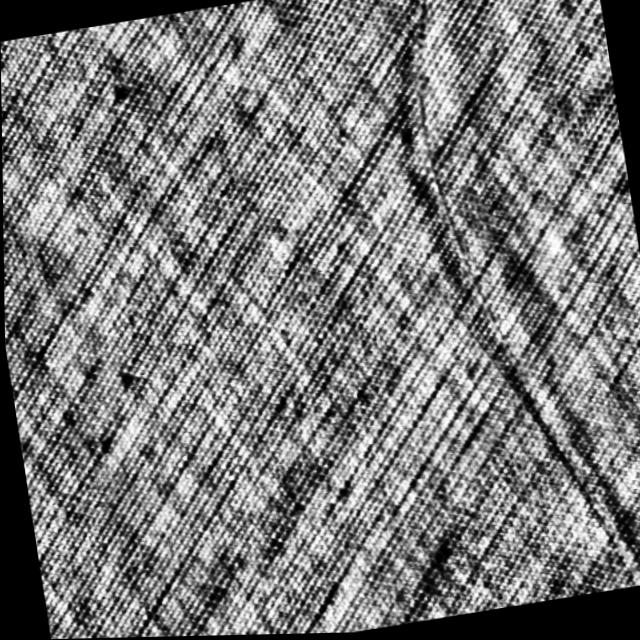Stitch: (390, 0, 640, 613)
